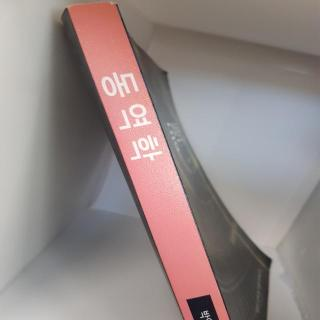book-spine: (65, 0, 231, 320)
